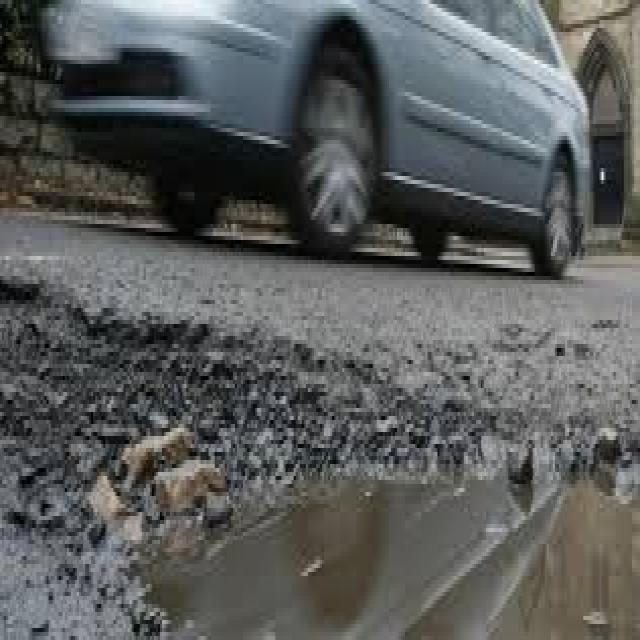Pothole: (0, 263, 640, 640)
